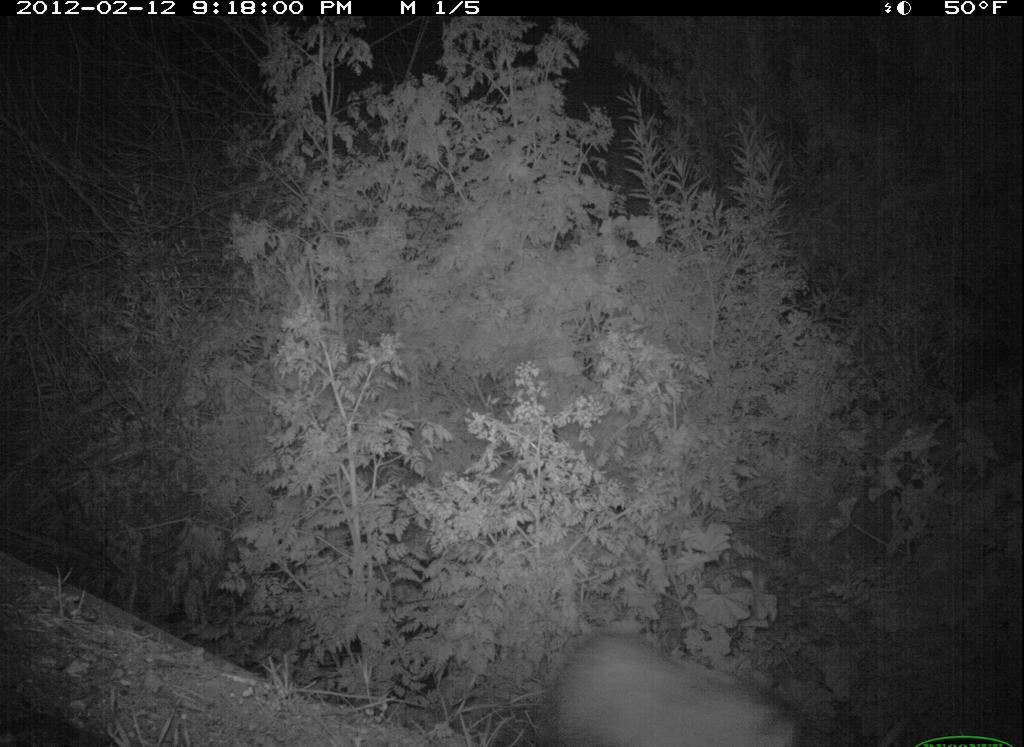opossum: (537, 637, 808, 747)
